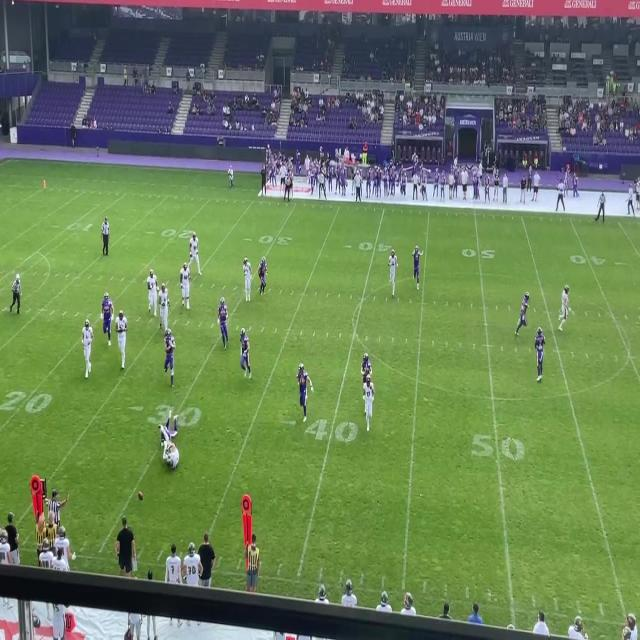2: (0, 389, 31, 415)
4: (303, 414, 331, 446)
5: (470, 428, 496, 464)
american-football-players: (296, 361, 316, 421), (114, 310, 128, 369), (239, 328, 254, 381), (162, 329, 175, 388), (159, 409, 180, 445), (217, 298, 231, 351), (363, 374, 376, 431), (178, 263, 193, 311), (532, 326, 545, 381), (516, 291, 531, 336), (558, 284, 571, 335), (82, 318, 93, 378), (100, 293, 112, 346), (146, 269, 159, 317), (360, 347, 372, 397), (158, 283, 170, 333), (387, 249, 398, 298), (190, 234, 201, 278), (411, 247, 422, 289), (242, 258, 252, 304), (258, 258, 270, 296), (164, 446, 180, 472)
